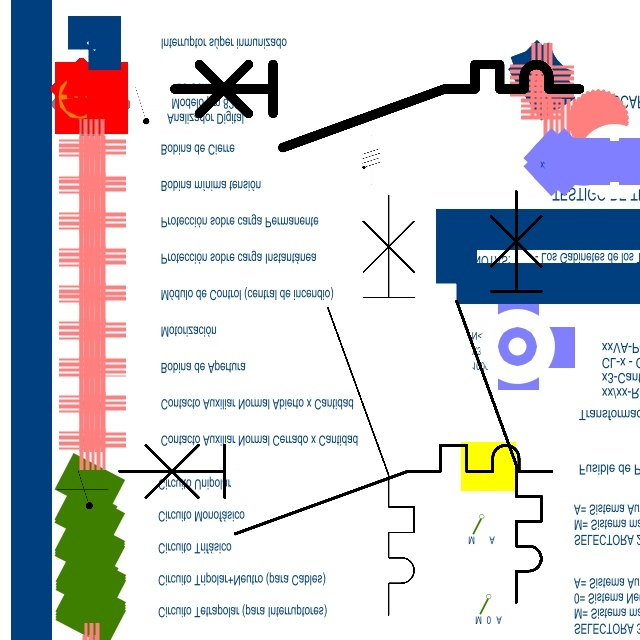interruptor_termomagnetico: (108, 434, 563, 545), (317, 184, 425, 625), (446, 181, 552, 613), (164, 54, 590, 158)
